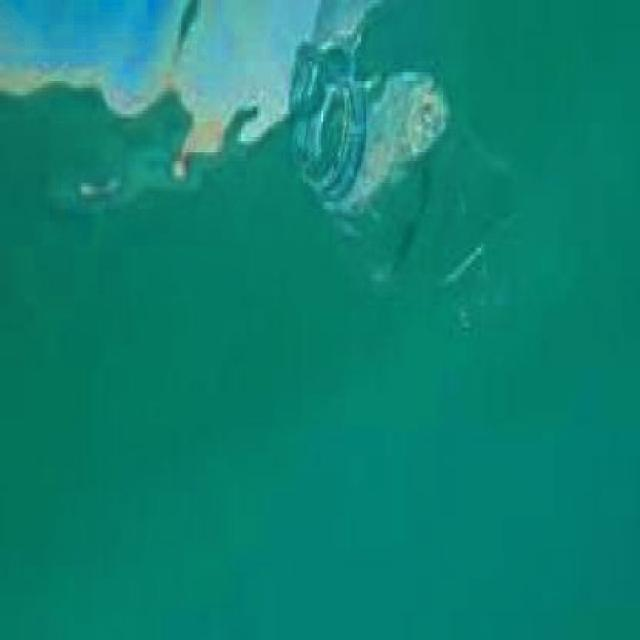pbottle: (278, 46, 531, 354)
